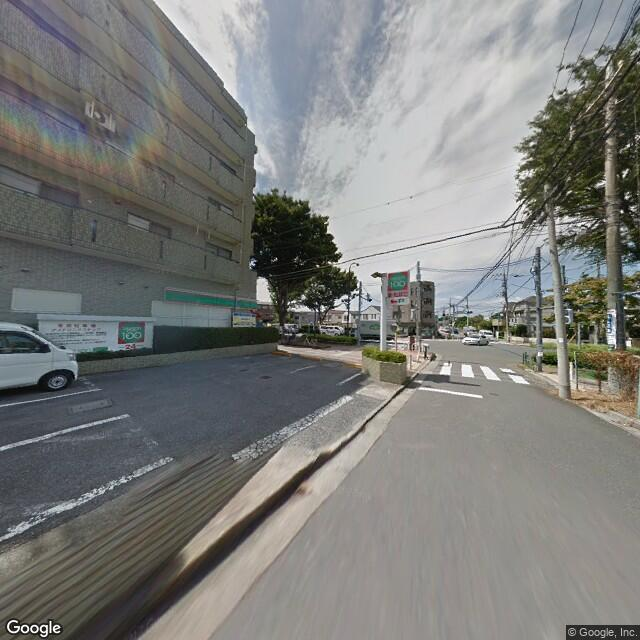lawson: (157, 284, 259, 314), (387, 264, 413, 297), (118, 317, 145, 348)
